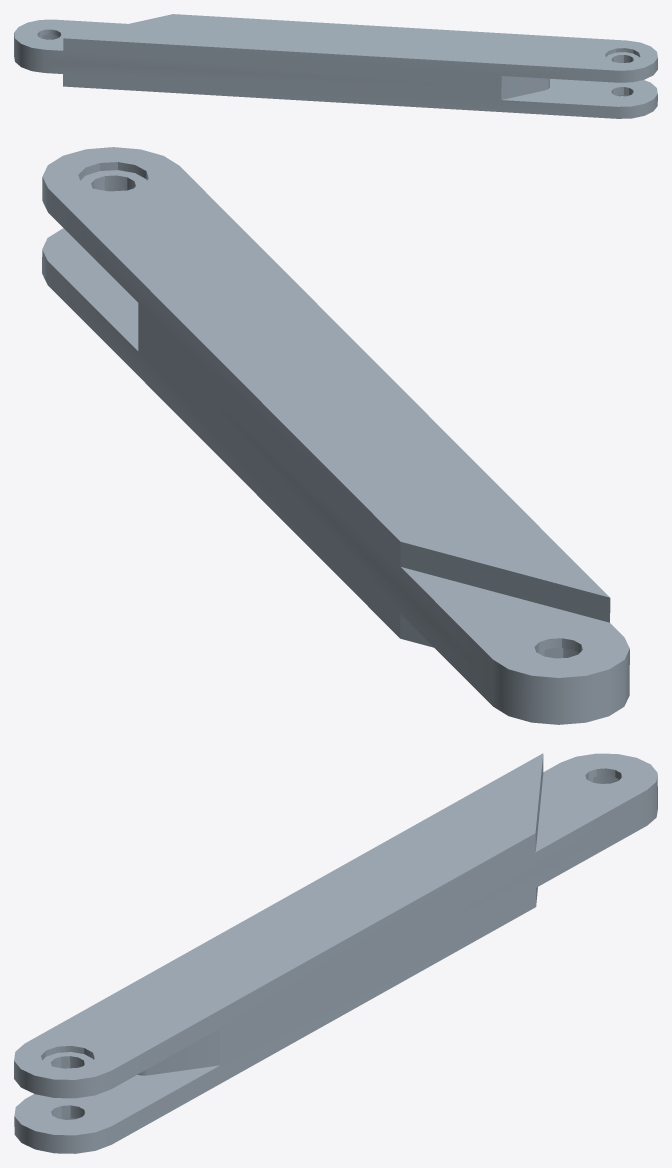
3 views of the same model, one above another, from view 1: azimuth 30°, elevation 25°; view 2: azimuth 150°, elevation 25°; view 3: azimuth 270°, elevation 25° (orthographic). The views are drawn at different scales.
Parts seen in each view (by area): view 1: tmp_export_fr_link_3; view 2: tmp_export_fr_link_3; view 3: tmp_export_fr_link_3.
Boxes of the visible parts, box(x1,y1,x2,y2) form: tmp_export_fr_link_3: box(14, 14, 657, 118); tmp_export_fr_link_3: box(42, 147, 629, 724); tmp_export_fr_link_3: box(14, 753, 657, 1153).
Bounding box in the file's own units: 0.1192 × 0.0948 × 0.0125.
